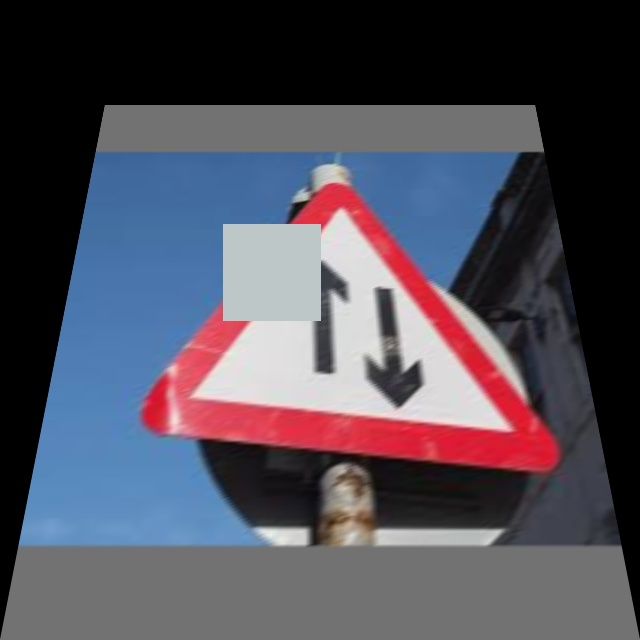Mandatory_Two_Way_Traffic: (138, 182, 566, 476)
